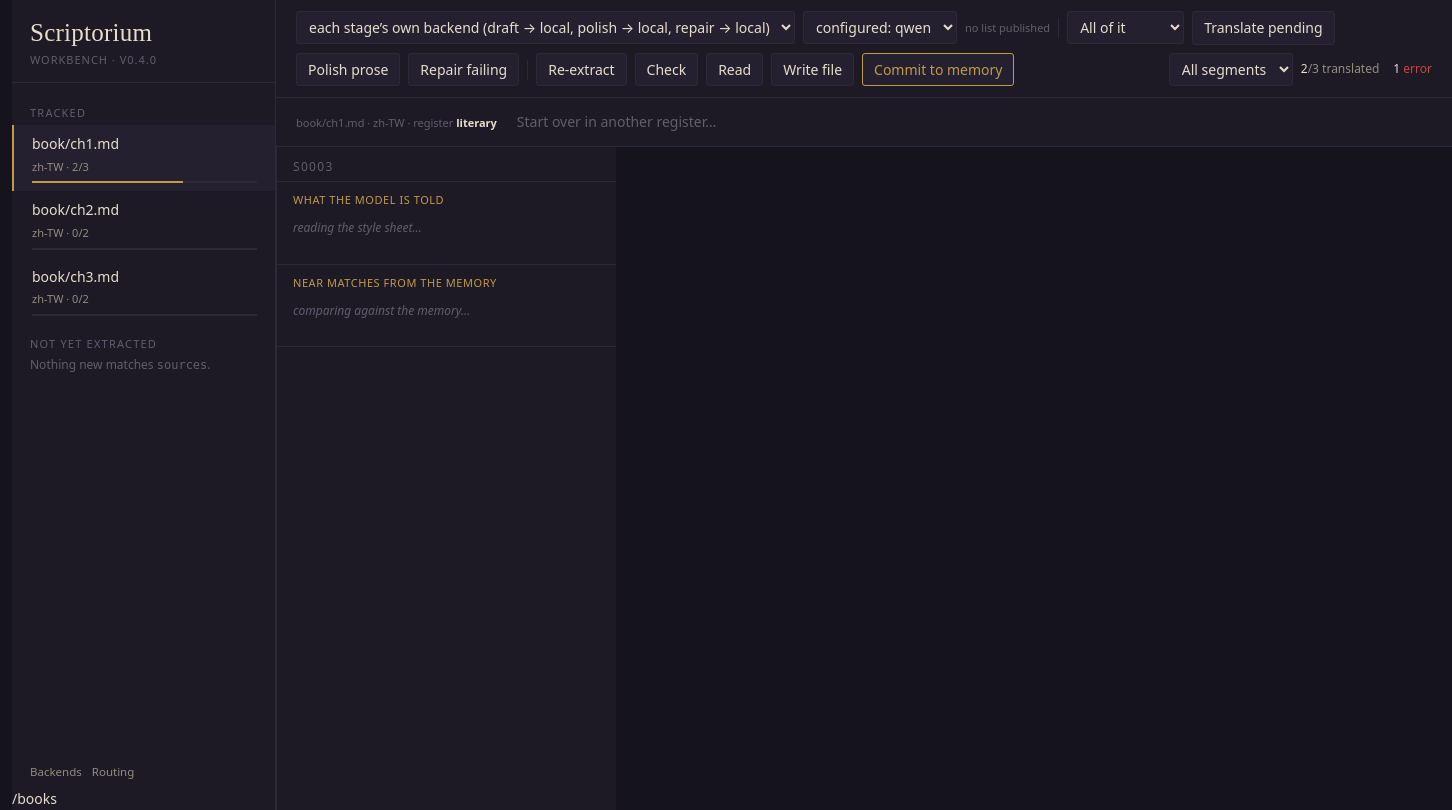
Test: moving between segments › does not carry a segment of one document into the next one opened
Expected: the heading "s0003" is shown, x1=277 y1=147 x2=616 y2=182
Expected: the text "/3 translated" is shown, x1=1301 y1=60 x2=1379 y2=79
# The rail's own link, to a document this page has not visited.
Click the button "book/ch2.md zh-TW · 0/2" at (76, 210), box x1=12 y1=191 x2=275 y2=258
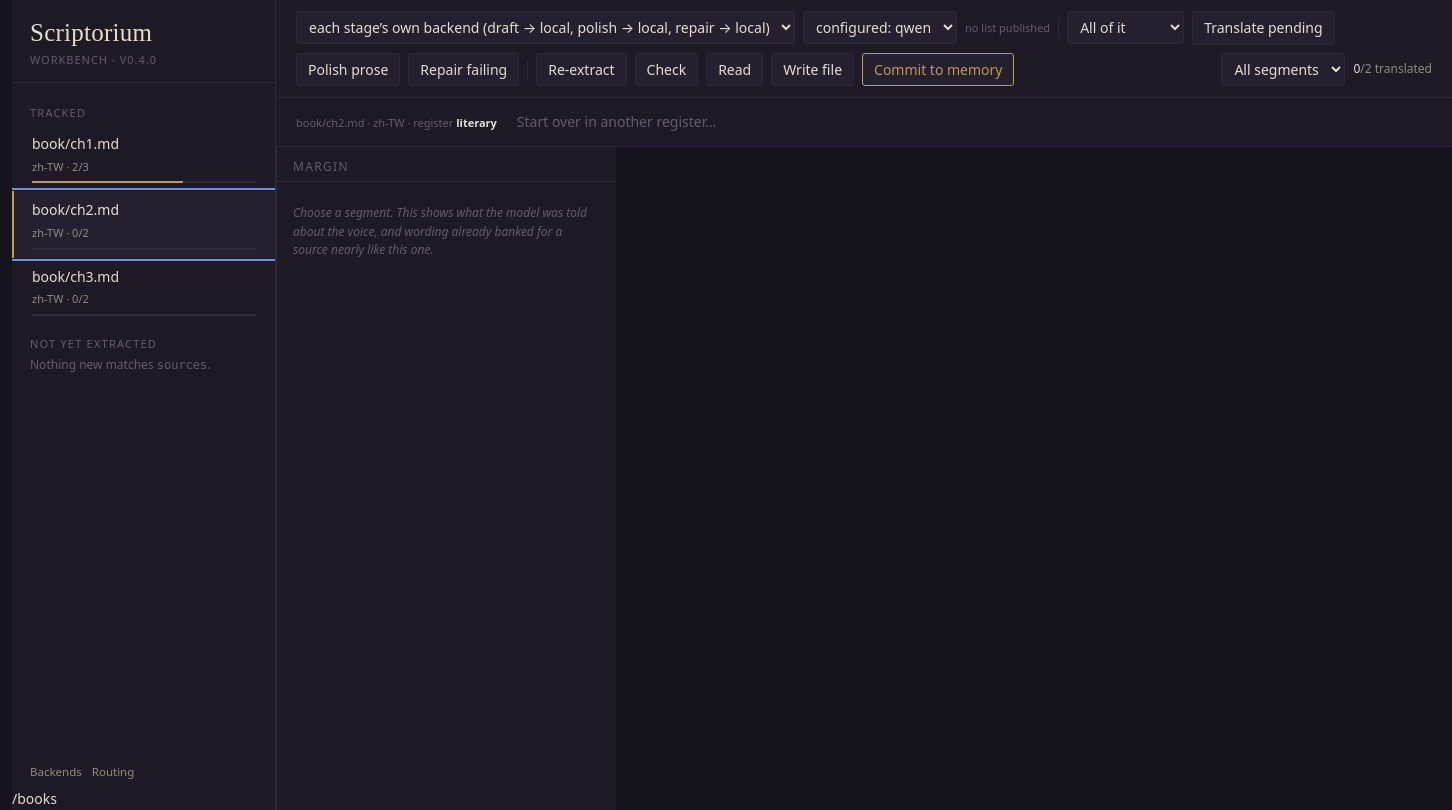
Expected: the text "/2 translated" is shown, x1=1353 y1=60 x2=1432 y2=79
Expected: the heading "s0003" is gone
Expected: the text "Choose a segment" is shown, x1=293 y1=204 x2=587 y2=258
